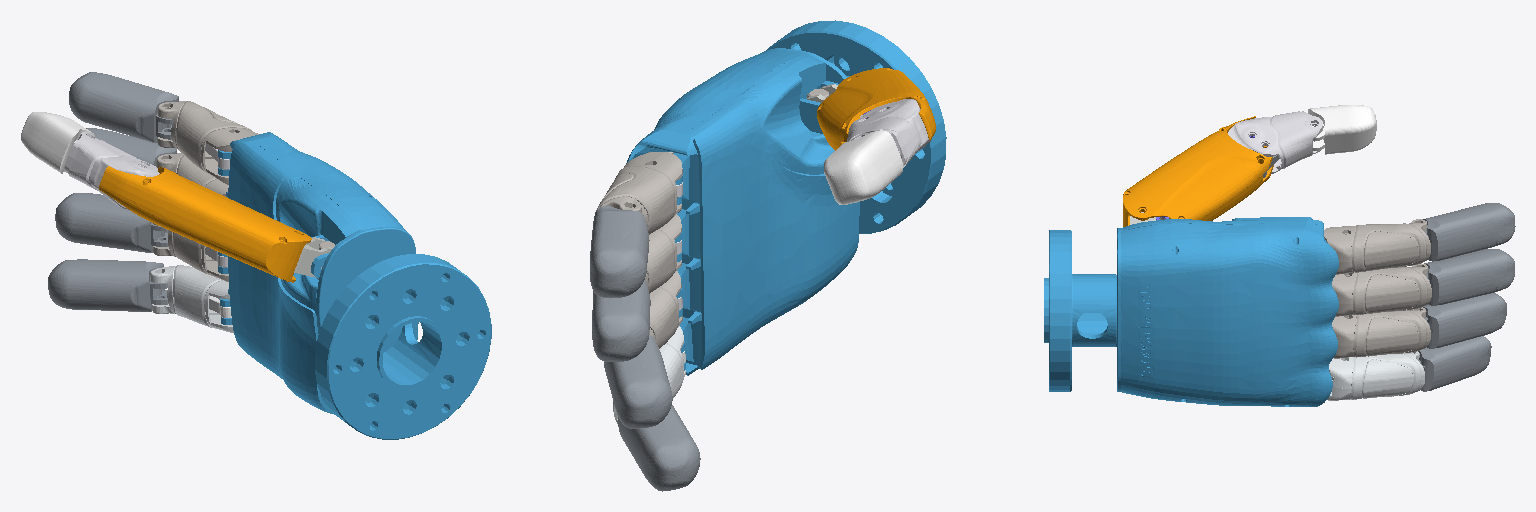
--- What the picture shows (computed from the rendered views, not written in the file) ---
The picture shows the robot from 3 angles, left to right: view 1: azimuth 30°, elevation 25°; view 2: azimuth 150°, elevation 25°; view 3: azimuth 270°, elevation 25°; orthographic projection.
Robot: ur5_inspire_hand — 40 links, 39 joints (30 revolute, 6 prismatic, 3 fixed); root link world; default pose: every joint at zero.
Visible links, largest first — view 1: hand_base_link, Link44, Link84, Link04, Link74, Link03, Link83, Link47, Link48, Link73, Link64, Link63 (+1 smaller); view 2: hand_base_link, Link04, Link44, Link03, Link48, Link74, Link84, Link64, Link47, Link63, Link73, Link83; view 3: hand_base_link, Link44, Link03, Link63, Link73, Link83, Link04, Link64, Link47, Link74, Link48, Link84.
Boxes of the visible links, bbox=[...] form: hand_base_link: bbox=[218, 132, 491, 439]; Link44: bbox=[99, 166, 311, 282]; Link84: bbox=[48, 259, 168, 311]; Link04: bbox=[69, 72, 178, 142]; Link74: bbox=[55, 193, 168, 252]; Link03: bbox=[157, 101, 258, 184]; Link83: bbox=[150, 265, 233, 332]; Link47: bbox=[65, 132, 159, 209]; Link48: bbox=[21, 112, 94, 173]; Link73: bbox=[153, 223, 228, 281]; Link64: bbox=[86, 128, 176, 165]; Link63: bbox=[156, 153, 228, 197]; hand_base_link: bbox=[626, 20, 946, 375]; Link04: bbox=[590, 206, 649, 297]; Link44: bbox=[817, 68, 935, 150]; Link03: bbox=[595, 152, 682, 234]; Link48: bbox=[824, 130, 902, 204]; Link74: bbox=[604, 335, 672, 428]; Link84: bbox=[618, 405, 700, 491]; Link64: bbox=[592, 280, 650, 361]; Link47: bbox=[847, 99, 931, 167]; Link63: bbox=[645, 214, 681, 293]; Link73: bbox=[649, 271, 682, 348]; Link83: bbox=[613, 326, 685, 423]; hand_base_link: bbox=[1044, 217, 1338, 406]; Link44: bbox=[1123, 116, 1273, 226]; Link03: bbox=[1324, 219, 1430, 274]; Link63: bbox=[1332, 263, 1431, 316]; Link73: bbox=[1332, 307, 1430, 358]; Link83: bbox=[1327, 351, 1424, 400]; Link04: bbox=[1423, 203, 1515, 261]; Link64: bbox=[1424, 249, 1514, 305]; Link47: bbox=[1228, 111, 1323, 173]; Link74: bbox=[1423, 293, 1506, 348]; Link48: bbox=[1308, 105, 1376, 154]; Link84: bbox=[1418, 336, 1491, 391].
Size in the robot's own frame: 0.1343 by 0.2264 by 0.1197 metres.
31 mesh visuals loaded from 38 distinct referenced files (31 binary STL); not drawn: 7 (reference not matched to a file when rendering).

robot.urdf — ur5_inspire_hand:
<?xml version="1.0" encoding="utf-8"?>

<robot name="ur5_inspire_hand">

    <!-- define the ur5's position and orientation in the world coordinate system -->
    <link name="world" />

    <!-- UR5 World connection -->
    <joint name="world_joint" type="fixed">
        <parent link="world" />
        <child link="base_link" />
        <!-- TODO: check base_link name of robot -->
        <origin rpy="0.0 0.0 0.0" xyz="0.0 0.0 0.0" />
    </joint>

    <!-- UR5 Hand connections -->
    <joint name="hand_joint" type="fixed">
        <parent link="ee_link" />
        <child link="hand_base_link" />
        <origin rpy="0.0 -1.57079633 0.0" xyz="0.0 0.0 0.0" />
    </joint>

    <!-- UR5 robot -->
    <link name="base_link">
        <visual>
            <geometry>
                <mesh filename="package://ur_description/meshes/ur5/visual/base.dae" />
            </geometry>
            <material name="LightGrey">
                <color rgba="0.7 0.7 0.7 1.0" />
            </material>
        </visual>
        <collision>
            <geometry>
                <mesh filename="package://ur_description/meshes/ur5/collision/base.stl" />
            </geometry>
        </collision>
        <inertial>
            <mass value="4.0" />
            <origin rpy="0 0 0" xyz="0.0 0.0 0.0" />
            <inertia ixx="0.00443333156" ixy="0.0" ixz="0.0" iyy="0.00443333156" iyz="0.0"
                izz="0.0072" />
        </inertial>
    </link>
    <joint name="shoulder_pan_joint" type="revolute">
        <parent link="base_link" />
        <child link="shoulder_link" />
        <origin rpy="0.0 0.0 0.0" xyz="0.0 0.0 0.089159" />
        <axis xyz="0 0 1" />
        <limit effort="150.0" lower="-3.14159265" upper="3.14159265" velocity="3.15" />
        <dynamics damping="0.0" friction="0.0" />
    </joint>
    <link name="shoulder_link">
        <visual>
            <geometry>
                <mesh filename="package://ur_description/meshes/ur5/visual/shoulder.dae" />
            </geometry>
            <material name="LightGrey">
                <color rgba="0.7 0.7 0.7 1.0" />
            </material>
        </visual>
        <collision>
            <geometry>
                <mesh filename="package://ur_description/meshes/ur5/collision/shoulder.stl" />
            </geometry>
        </collision>
        <inertial>
            <mass value="3.7" />
            <origin rpy="0 0 0" xyz="0.0 0.0 0.0" />
            <inertia ixx="0.010267495893" ixy="0.0" ixz="0.0" iyy="0.010267495893" iyz="0.0"
                izz="0.00666" />
        </inertial>
    </link>
    <joint name="shoulder_lift_joint" type="revolute">
        <parent link="shoulder_link" />
        <child link="upper_arm_link" />
        <origin rpy="0.0 1.570796325 0.0" xyz="0.0 0.13585 0.0" />
        <axis xyz="0 1 0" />
        <limit effort="150.0" lower="-3.14159265" upper="3.14159265" velocity="3.15" />
        <dynamics damping="0.0" friction="0.0" />
    </joint>
    <link name="upper_arm_link">
        <visual>
            <geometry>
                <mesh filename="package://ur_description/meshes/ur5/visual/upperarm.dae" />
            </geometry>
            <material name="LightGrey">
                <color rgba="0.7 0.7 0.7 1.0" />
            </material>
        </visual>
        <collision>
            <geometry>
                <mesh filename="package://ur_description/meshes/ur5/collision/upperarm.stl" />
            </geometry>
        </collision>
        <inertial>
            <mass value="8.393" />
            <origin rpy="0 0 0" xyz="0.0 0.0 0.28" />
            <inertia ixx="0.22689067591" ixy="0.0" ixz="0.0" iyy="0.22689067591" iyz="0.0"
                izz="0.0151074" />
        </inertial>
    </link>
    <joint name="elbow_joint" type="revolute">
        <parent link="upper_arm_link" />
        <child link="forearm_link" />
        <origin rpy="0.0 0.0 0.0" xyz="0.0 -0.1197 0.425" />
        <axis xyz="0 1 0" />
        <limit effort="150.0" lower="-3.14159265" upper="3.14159265" velocity="3.15" />
        <dynamics damping="0.0" friction="0.0" />
    </joint>
    <link name="forearm_link">
        <visual>
            <geometry>
                <mesh filename="package://ur_description/meshes/ur5/visual/forearm.dae" />
            </geometry>
            <material name="LightGrey">
                <color rgba="0.7 0.7 0.7 1.0" />
            </material>
        </visual>
        <collision>
            <geometry>
                <mesh filename="package://ur_description/meshes/ur5/collision/forearm.stl" />
            </geometry>
        </collision>
        <inertial>
            <mass value="2.275" />
            <origin rpy="0 0 0" xyz="0.0 0.0 0.25" />
            <inertia ixx="0.049443313556" ixy="0.0" ixz="0.0" iyy="0.049443313556" iyz="0.0"
                izz="0.004095" />
        </inertial>
    </link>
    <joint name="wrist_1_joint" type="revolute">
        <parent link="forearm_link" />
        <child link="wrist_1_link" />
        <origin rpy="0.0 1.570796325 0.0" xyz="0.0 0.0 0.39225" />
        <axis xyz="0 1 0" />
        <limit effort="28.0" lower="-3.14159265" upper="3.14159265" velocity="3.2" />
        <dynamics damping="0.0" friction="0.0" />
    </joint>
    <link name="wrist_1_link">
        <visual>
            <geometry>
                <mesh filename="package://ur_description/meshes/ur5/visual/wrist1.dae" />
            </geometry>
            <material name="LightGrey">
                <color rgba="0.7 0.7 0.7 1.0" />
            </material>
        </visual>
        <collision>
            <geometry>
                <mesh filename="package://ur_description/meshes/ur5/collision/wrist1.stl" />
            </geometry>
        </collision>
        <inertial>
            <mass value="1.219" />
            <origin rpy="0 0 0" xyz="0.0 0.0 0.0" />
            <inertia ixx="0.111172755531" ixy="0.0" ixz="0.0" iyy="0.111172755531" iyz="0.0"
                izz="0.21942" />
        </inertial>
    </link>
    <joint name="wrist_2_joint" type="revolute">
        <parent link="wrist_1_link" />
        <child link="wrist_2_link" />
        <origin rpy="0.0 0.0 0.0" xyz="0.0 0.093 0.0" />
        <axis xyz="0 0 1" />
        <limit effort="28.0" lower="-3.14159265" upper="3.14159265" velocity="3.2" />
        <dynamics damping="0.0" friction="0.0" />
    </joint>
    <link name="wrist_2_link">
        <visual>
            <geometry>
                <mesh filename="package://ur_description/meshes/ur5/visual/wrist2.dae" />
            </geometry>
            <material name="LightGrey">
                <color rgba="0.7 0.7 0.7 1.0" />
            </material>
        </visual>
        <collision>
            <geometry>
                <mesh filename="package://ur_description/meshes/ur5/collision/wrist2.stl" />
            </geometry>
        </collision>
        <inertial>
            <mass value="1.219" />
            <origin rpy="0 0 0" xyz="0.0 0.0 0.0" />
            <inertia ixx="0.111172755531" ixy="0.0" ixz="0.0" iyy="0.111172755531" iyz="0.0"
                izz="0.21942" />
        </inertial>
    </link>
    <joint name="wrist_3_joint" type="revolute">
        <parent link="wrist_2_link" />
        <child link="wrist_3_link" />
        <origin rpy="0.0 0.0 0.0" xyz="0.0 0.0 0.09465" />
        <axis xyz="0 1 0" />
        <limit effort="28.0" lower="-3.14159265" upper="3.14159265" velocity="3.2" />
        <dynamics damping="0.0" friction="0.0" />
    </joint>
    <link name="wrist_3_link">
        <visual>
            <geometry>
                <mesh filename="package://ur_description/meshes/ur5/visual/wrist3.dae" />
            </geometry>
            <material name="LightGrey">
                <color rgba="0.7 0.7 0.7 1.0" />
            </material>
        </visual>
        <collision>
            <geometry>
                <mesh filename="package://ur_description/meshes/ur5/collision/wrist3.stl" />
            </geometry>
        </collision>
        <inertial>
            <mass value="0.1879" />
            <origin rpy="0 0 0" xyz="0.0 0.0 0.0" />
            <inertia ixx="0.0171364731454" ixy="0.0" ixz="0.0" iyy="0.0171364731454" iyz="0.0"
                izz="0.033822" />
        </inertial>
    </link>
    <joint name="ee_fixed_joint" type="fixed">
        <parent link="wrist_3_link" />
        <child link="ee_link" />
        <origin rpy="0.0 0.0 1.570796325" xyz="0.0 0.0823 0.0" />
    </joint>
    <link name="ee_link">
        <collision>
            <geometry>
                <box size="0.01 0.01 0.01" />
            </geometry>
            <origin rpy="0 0 0" xyz="-0.01 0 0" />
        </collision>
    </link>


    <!-- INSPIRE hand -->
    <link
        name="hand_base_link">
        <inertial>
            <origin
                xyz="0.00040789 0.0043672 -0.042773"
                rpy="0 0 0" />
            <mass
                value="0.091809" />
            <inertia
                ixx="5.4116E-05"
                ixy="4.0634E-07"
                ixz="-1.041E-06"
                iyy="0.00010076"
                iyz="-4.6185E-07"
                izz="9.0663E-05" />
        </inertial>
        <visual>
            <origin
                xyz="0 0 0"
                rpy="0 0 0" />
            <geometry>
                <mesh
                    filename="package://inspire_tactile_hand/meshes/base_link.STL" />
            </geometry>
            <material
                name="">
                <color>1 1 1 0.5</color>
            </material>
        </visual>
        <collision>
            <origin
                xyz="0 0 0"
                rpy="0 0 0" />
            <geometry>
                <mesh
                    filename="package://inspire_tactile_hand/meshes/base_link.STL" />
            </geometry>
        </collision>
    </link>
    <link
        name="Link01">
        <inertial>
            <origin
                xyz="-0.0013075 0.00095537 -0.037441"
                rpy="0 0 0" />
            <mass
                value="0.010228" />
            <inertia
                ixx="4.5019E-06"
                ixy="1.389E-09"
                ixz="-1.4756E-07"
                iyy="4.4556E-06"
                iyz="3.959E-08"
                izz="2.8134E-07" />
        </inertial>
        <visual>
            <origin
                xyz="0 0 0"
                rpy="0 0 0" />
            <geometry>
                <mesh
                    filename="package://inspire_tactile_hand/meshes/Link01.STL" />
            </geometry>
            <material
                name="">
                <color
                    rgba="0.89412 0.91373 0.92941 1" />
            </material>
        </visual>
        <collision>
            <origin
                xyz="0 0 0"
                rpy="0 0 0" />
            <geometry>
                <mesh
                    filename="package://inspire_tactile_hand/meshes/Link01.STL" />
            </geometry>
        </collision>
    </link>
    <joint
        name="joint001"
        type="revolute">
        <origin
            xyz="-0.028069 0.0068497 -0.041587"
            rpy="0 0 0" />
        <parent
            link="hand_base_link" />
        <child
            link="Link01" />
        <axis
            xyz="0.99939 0 -0.034899" />
        <limit
            lower="-2"
            upper="2"
            effort="50"
            velocity="1" />
    </joint>
    <link
        name="Link02">
        <inertial>
            <origin
                xyz="-0.00039499 -0.00011147 -0.011311"
                rpy="0 0 0" />
            <mass
                value="0.00096478" />
            <inertia
                ixx="6.7477E-08"
                ixy="-2.0942E-11"
                ixz="-2.1362E-09"
                iyy="6.7215E-08"
                iyz="-5.9961E-10"
                izz="6.3805E-09" />
        </inertial>
        <visual>
            <origin
                xyz="0 0 0"
                rpy="0 0 0" />
            <geometry>
                <mesh
                    filename="package://inspire_tactile_hand/meshes/Link02.STL" />
            </geometry>
            <material
                name="">
                <color
                    rgba="0.8902 0.8902 0.91373 1" />
            </material>
        </visual>
        <collision>
            <origin
                xyz="0 0 0"
                rpy="0 0 0" />
            <geometry>
                <mesh
                    filename="package://inspire_tactile_hand/meshes/Link02.STL" />
            </geometry>
        </collision>
    </link>
    <joint
        name="joint012"
        type="prismatic">
        <origin
            xyz="-0.0024717 -0.00069757 -0.07078"
            rpy="0 0 0" />
        <parent
            link="Link01" />
        <child
            link="Link02" />
        <axis
            xyz="-0.034898 -0.009849 -0.99934" />
        <limit
            lower="-0.001"
            upper="0.0089"
            effort="50"
            velocity="1" />
    </joint>
    <link
        name="Link03">
        <inertial>
            <origin
                xyz="0.0024223 -0.0078624 -0.016577"
                rpy="0 0 0" />
            <mass
                value="0.0090333" />
            <inertia
                ixx="1.768E-06"
                ixy="-7.9691E-09"
                ixz="-3.4656E-08"
                iyy="1.7729E-06"
                iyz="-2.2807E-07"
                izz="7.7843E-07" />
        </inertial>
        <visual>
            <origin
                xyz="0 0 0"
                rpy="0 0 0" />
            <geometry>
                <mesh
                    filename="package://inspire_tactile_hand/meshes/Link03.STL" />
            </geometry>
            <material
                name="">
                <color
                    rgba="0.77647 0.75686 0.73725 1" />
            </material>
        </visual>
        <collision>
            <origin
                xyz="0 0 0"
                rpy="0 0 0" />
            <geometry>
                <mesh
                    filename="package://inspire_tactile_hand/meshes/Link03.STL" />
            </geometry>
        </collision>
    </link>
    <joint
        name="joint023"
        type="revolute">
        <origin
            xyz="-0.0040346 -0.00029252 -0.029576"
            rpy="0 0 0" />
        <parent
            link="Link02" />
        <child
            link="Link03" />
        <axis
            xyz="-0.99939 0 0.034899" />
        <limit
            lower="-2"
            upper="2"
            effort="50"
            velocity="1" />
    </joint>
    <link
        name="Link04">
        <inertial>
            <origin
                xyz="0.0025725 -0.0077235 -0.02232"
                rpy="0 0 0" />
            <mass
                value="0.014494" />
            <inertia
                ixx="2.7886E-06"
                ixy="-2.9364E-08"
                ixz="-5.5659E-08"
                iyy="2.2885E-06"
                iyz="-8.4296E-07"
                izz="1.196E-06" />
        </inertial>
        <visual>
            <origin
                xyz="0 0 0"
                rpy="0 0 0" />
            <geometry>
                <mesh
                    filename="package://inspire_tactile_hand/meshes/Link04.STL" />
            </geometry>
            <material
                name="">
                <color
                    rgba="0.61569 0.64314 0.67451 1" />
            </material>
        </visual>
        <collision>
            <origin
                xyz="0 0 0"
                rpy="0 0 0" />
            <geometry>
                <mesh
                    filename="package://inspire_tactile_hand/meshes/Link04.STL" />
            </geometry>
        </collision>
    </link>
    <joint
        name="joint034"
        type="revolute">
        <origin
            xyz="-0.0016841 -0.017353 -0.038198"
            rpy="0 0 0" />
        <parent
            link="Link03" />
        <child
            link="Link04" />
        <axis
            xyz="0.99939 0 -0.034899" />
        <limit
            lower="-2"
            upper="2"
            effort="50"
            velocity="1" />
    </joint>

    <gazebo>
        <joint
            name="joint003"
            type="revolute">
            <pose relative_to="hand_base_link">-0.0345 -0.00015498 -0.14553 0 -1.5359 0</pose>
            <parent>hand_base_link</parent>
            <child>Link03</child>
            <axis>0 0 1</axis>
            <limit
                lower="-2"
                upper="2"
                effort="50"
                velocity="1" />
        </joint>
    </gazebo>

    <link
        name="Link05">
        <inertial>
            <origin
                xyz="0.0016013 0.0014238 -0.018617"
                rpy="0 0 0" />
            <mass
                value="0.00069948" />
            <inertia
                ixx="1.2081E-07"
                ixy="3.317E-10"
                ixz="-4.1019E-09"
                iyy="1.2037E-07"
                iyz="9.4987E-09"
                izz="3.4934E-09" />
        </inertial>
        <visual>
            <origin
                xyz="0 0 0"
                rpy="0 0 0" />
            <geometry>
                <mesh
                    filename="package://inspire_tactile_hand/meshes/Link05.STL" />
            </geometry>
            <material
                name="">
                <color
                    rgba="0.8902 0.8902 0.91373 1" />
            </material>
        </visual>
        <collision>
            <origin
                xyz="0 0 0"
                rpy="0 0 0" />
            <geometry>
                <mesh
                    filename="package://inspire_tactile_hand/meshes/Link05.STL" />
            </geometry>
        </collision>
    </link>
    <joint
        name="joint005"
        type="revolute">
        <origin
            xyz="-0.033786 -0.0067159 -0.14085"
            rpy="0 0 0" />
        <parent
            link="hand_base_link" />
        <child
            link="Link05" />
        <axis
            xyz="0.99939 0 -0.034899" />
        <limit
            lower="-2"
            upper="2"
            effort="50"
            velocity="1" />
    </joint>

    <gazebo>
        <joint
            name="joint054"
            type="revolute">
            <pose relative_to="Link05">-0.0032193 0.0026583 -0.036313 0 -1.5359 0</pose>
            <parent>Link05</parent>
            <child>Link04</child>
            <axis>0 0 -1</axis>
            <limit
                lower="-2"
                upper="2"
                effort="50"
                velocity="1" />
        </joint>
    </gazebo>


    <link
        name="Link41">
        <inertial>
            <origin
                xyz="-0.02607 -0.00010211 -0.0060545"
                rpy="0 0 0" />
            <mass
                value="0.010429" />
            <inertia
                ixx="7.6968E-07"
                ixy="-6.219E-09"
                ixz="-2.9412E-08"
                iyy="2.3567E-06"
                iyz="-1.1747E-10"
                izz="1.8027E-06" />
        </inertial>
        <visual>
            <origin
                xyz="0 0 0"
                rpy="0 0 0" />
            <geometry>
                <mesh
                    filename="package://inspire_tactile_hand/meshes/Link41.STL" />
            </geometry>
            <material
                name="">
                <color
                    rgba="0.75294 0.75294 0.75294 1" />
            </material>
        </visual>
        <collision>
            <origin
                xyz="0 0 0"
                rpy="0 0 0" />
            <geometry>
                <mesh
                    filename="package://inspire_tactile_hand/meshes/Link41.STL" />
            </geometry>
        </collision>
    </link>
    <joint
        name="joint401"
        type="revolute">
        <origin
            xyz="0.033577 -0.0119 -0.04755"
            rpy="0 0 0" />
        <parent
            link="hand_base_link" />
        <child
            link="Link41" />
        <axis
            xyz="0 0 1" />
        <limit
            lower="-2"
            upper="2"
            effort="50"
            velocity="1" />
    </joint>
    <link
        name="Link42">
        <inertial>
            <origin
                xyz="-0.01074 -4.2071E-05 3.1818E-10"
                rpy="0 0 0" />
            <mass
                value="0.0006939" />
            <inertia
                ixx="6.1418E-09"
                ixy="-5.4783E-11"
                ixz="1.3215E-15"
                iyy="2.0129E-08"
                iyz="1.3405E-17"
                izz="2.0374E-08" />
        </inertial>
        <visual>
            <origin
                xyz="0 0 0"
                rpy="0 0 0" />
            <geometry>
                <mesh
                    filename="package://inspire_tactile_hand/meshes/Link42.STL" />
            </geometry>
            <material
                name="">
                <color
                    rgba="0.77647 0.75686 0.73725 1" />
            </material>
        </visual>
        <collision>
            <origin
                xyz="0 0 0"
                rpy="0 0 0" />
            <geometry>
                <mesh
                    filename="package://inspire_tactile_hand/meshes/Link42.STL" />
            </geometry>
        </collision>
    </link>
    <joint
        name="joint412"
        type="prismatic">
        <origin
            xyz="-0.047038 -0.00018427 0"
            rpy="0 0 0" />
        <parent
            link="Link41" />
        <child
            link="Link42" />
        <axis
            xyz="0.99999 0.0039175 0" />
        <limit
            lower="-0.0027"
            upper="0.006"
            effort="50"
            velocity="1" />
    </joint>
    <link
        name="Link43">
        <inertial>
            <origin
                xyz="-0.00093154 -0.012832 0.0053322"
                rpy="0 0 0" />
            <mass
                value="0.0020853" />
            <inertia
                ixx="1.1253E-07"
                ixy="-6.7093E-09"
                ixz="-1.4985E-09"
                iyy="7.7841E-08"
                iyz="-5.6524E-09"
                izz="8.0107E-08" />
        </inertial>
        <visual>
            <origin
                xyz="0 0 0"
                rpy="0 0 0" />
            <geometry>
                <mesh
                    filename="package://inspire_tactile_hand/meshes/Link43.STL" />
            </geometry>
            <material
                name="">
                <color
                    rgba="0.82745 0.83922 0.82745 1" />
            </material>
        </visual>
        <collision>
            <origin
                xyz="0 0 0"
                rpy="0 0 0" />
            <geometry>
                <mesh
                    filename="package://inspire_tactile_hand/meshes/Link43.STL" />
            </geometry>
        </collision>
    </link>
    <joint
        name="joint423"
        type="revolute">
        <origin
            xyz="-0.01625 -6.3659E-05 -0.0065"
            rpy="0 0 0" />
        <parent
            link="Link42" />
        <child
            link="Link43" />
        <axis
            xyz="0 0 1" />
        <limit
            lower="-2"
            upper="2"
            effort="50"
            velocity="1" />
    </joint>
    <link
        name="Link44">
        <inertial>
            <origin
                xyz="-0.0043015 -0.022596 -0.023668"
                rpy="0 0 0" />
            <mass
                value="0.010572" />
            <inertia
                ixx="6.7103E-06"
                ixy="-8.3093E-07"
                ixz="-8.5679E-07"
                iyy="5.2737E-06"
                iyz="-1.8755E-06"
                izz="3.1575E-06" />
        </inertial>
        <visual>
            <origin
                xyz="0 0 0"
                rpy="0 0 0" />
            <geometry>
                <mesh
                    filename="package://inspire_tactile_hand/meshes/Link44.STL" />
            </geometry>
            <material
                name="">
                <color
                    rgba="1 0.66667 0.090196 1" />
            </material>
        </visual>
        <collision>
            <origin
                xyz="0 0 0"
                rpy="0 0 0" />
            <geometry>
                <mesh
                    filename="package://inspire_tactile_hand/meshes/Link44.STL" />
            </geometry>
        </collision>
    </link>
    <joint
        name="joint434"
        type="revolute">
        <origin
            xyz="-0.0078317 -0.015666 0.0069"
            rpy="0 0 0" />
        <parent
            link="Link43" />
        <child
            link="Link44" />
        <axis
            xyz="-0.90914 0.4165 0" />
        <limit
            lower="-2"
            upper="2"
            effort="50"
            velocity="1" />
    </joint>
    <link
        name="Link45">
        <inertial>
            <origin
                xyz="-0.0052468 -0.011453 -0.023466"
                rpy="0 0 0" />
            <mass
                value="0.010821" />
            <inertia
                ixx="2.2232E-06"
                ixy="-3.6867E-07"
                ixz="-2.11E-07"
                iyy="1.5873E-06"
                iyz="-4.6058E-07"
                izz="1.193E-06" />
        </inertial>
        <visual>
            <origin
                xyz="0 0 0"
                rpy="0 0 0" />
            <geometry>
                <mesh
                    filename="package://inspire_tactile_hand/meshes/Link45.STL" />
            </geometry>
            <material
                name="">
                <color
                    rgba="1 1 1 1" />
            </material>
        </visual>
        <collision>
            <origin
                xyz="0 0 0"
                rpy="0 0 0" />
            <geometry>
                <mesh
                    filename="package://inspire_tactile_hand/meshes/Link45.STL" />
            </geometry>
        </collision>
    </link>
    <joint
        name="joint445"
        type="revolute">
        <origin
            xyz="0.00088606 -0.011271 -0.00010738"
            rpy="0 0 0" />
        <parent
            link="Link44" />
        <child
            link="Link45" />
        <axis
            xyz="0.90914 -0.4165 0" />
        <limit
            lower="-2"
            upper="2"
            effort="50"
            velocity="1" />
    </joint>
    <link
        name="Link46">
        <inertial>
            <origin
                xyz="-0.0015687 -0.0034242 -0.0043416"
                rpy="0 0 0" />
            <mass
                value="0.00054209" />
            <inertia
                ixx="8.7659E-09"
                ixy="-8.607E-10"
                ixz="-1.0691E-09"
                iyy="7.2814E-09"
                iyz="-2.3337E-09"
                izz="6.155E-09" />
        </inertial>
        <visual>
            <origin
                xyz="0 0 0"
                rpy="0 0 0" />
            <geometry>
                <mesh
                    filename="package://inspire_tactile_hand/meshes/Link46.STL" />
            </geometry>
            <material
                name="">
                <color
                    rgba="0.77647 0.75686 0.73725 1" />
            </material>
        </visual>
        <collision>
            <origin
                xyz="0 0 0"
                rpy="0 0 0" />
            <geometry>
                <mesh
                    filename="package://inspire_tactile_hand/meshes/Link46.STL" />
            </geometry>
        </collision>
    </link>
    <joint
        name="joint456"
        type="prismatic">
        <origin
            xyz="-0.013096 -0.028586 -0.036244"
            rpy="0 0 0" />
        <parent
            link="Link45" />
        <child
            link="Link46" />
        <axis
            xyz="0.27293 0.59575 0.75537" />
        <limit
            lower="-0.0058"
            upper="0.0042"
            effort="50"
            velocity="1" />
    </joint>
    <link
        name="Link47">
        <inertial>
            <origin
                xyz="0.0033514 -0.00228 -0.016194"
                rpy="0 0 0" />
            <mass
                value="0.0057253" />
            <inertia
                ixx="8.817E-07"
                ixy="-2.5206E-08"
                ixz="-2.7134E-08"
                iyy="8.3807E-07"
                iyz="-5.9117E-08"
                izz="5.0904E-07" />
        </inertial>
        <visual>
            <origin
                xyz="0 0 0"
                rpy="0 0 0" />
            <geometry>
                <mesh
                    filename="package://inspire_tactile_hand/meshes/Link47.STL" />
            </geometry>
            <material
                name="">
                <color
                    rgba="0.8902 0.8902 0.91373 1" />
            </material>
        </visual>
        <collision>
            <origin
                xyz="0 0 0"
                rpy="0 0 0" />
            <geometry>
                <mesh
                    filename="package://inspire_tactile_hand/meshes/Link47.STL" />
            </geometry>
        </collision>
    </link>
    <joint
        name="joint467"
        type="revolute">
        <origin
            xyz="-0.0077305 -0.0072703 -0.011331"
            rpy="0 0 0" />
        <parent
            link="Link46" />
        <child
            link="Link47" />
        <axis
            xyz="-0.90914 0.4165 0" />
        <limit
            lower="-2"
            upper="2"
            effort="50"
            velocity="1" />
    </joint>
    <link
        name="Link48">
        <inertial>
            <origin
                xyz="0.0025446 -0.0064579 -0.013497"
                rpy="0 0 0" />
            <mass
                value="0.0085167" />
            <inertia
                ixx="7.8199E-07"
                ixy="-1.7948E-09"
                ixz="-1.5676E-08"
                iyy="7.7878E-07"
                iyz="-3.332E-08"
                izz="4.227E-07" />
        </inertial>
        <visual>
            <origin
                xyz="0 0 0"
                rpy="0 0 0" />
            <geometry>
                <mesh
                    filename="package://inspire_tactile_hand/meshes/Link48.STL" />
            </geometry>
            <material
                name="">
                <color
                    rgba="1 1 1 1" />
            </material>
        </visual>
        <collision>
            <origin
                xyz="0 0 0"
                rpy="0 0 0" />
            <geometry>
                <mesh
                    filename="package://inspire_tactile_hand/meshes/Link48.STL" />
            </geometry>
        </collision>
    </link>
    <joint
        name="joint478"
        type="revolute">
        <origin
            xyz="-0.0026009 -0.0032704 -0.035056"
            rpy="0 0 0" />
        <parent
            link="Link47" />
        <child
            link="Link48" />
        <axis
            xyz="-0.90914 0.4165 0" />
        <limit
            lower="-2"
            upper="2"
            effort="50"
            velocity="1" />
    </joint>
    <link
        name="Link49">
        <inertial>
            <origin
                xyz="-0.0036703 -0.013894 -0.011545"
                rpy="0 0 0" />
            <mass
                value="0.00041351" />
            <inertia
                ixx="6.5362E-08"
                ixy="-1.646E-08"
                ixz="-1.4617E-08"
                iyy="3.6973E-08"
                iyz="-3.1907E-08"
                izz="4.5125E-08" />
        </inertial>
        <visual>
            <origin
                xyz="0 0 0"
                rpy="0 0 0" />
            <geometry>
                <mesh
                    filename="package://inspire_tactile_hand/meshes/Link49.STL" />
            </geometry>
            <material
                name="">
                <color
                    rgba="0.61569 0.64314 0.67451 1" />
            </material>
        </visual>
        <collision>
            <origin
                xyz="0 0 0"
                rpy="0 0 0" />
            <geometry>
                <mesh
                    filename="package://inspire_tactile_hand/meshes/Link49.STL" />
            </geometry>
        </collision>
    </link>
    <joint
        name="joint449"
        type="revolute">
        <origin
            xyz="-0.010887 -0.031082 -0.056915"
            rpy="0 0 0" />
        <parent
            link="Link44" />
        <child
            link="Link49" />
        <axis
            xyz="0.90914 -0.4165 0" />
        <limit
            lower="-2"
            upper="2"
            effort="50"
            velocity="1" />
    </joint>

    <gazebo>
        <joint
            name="joint498"
            type="revolute">
            <pose relative_to="Link49">-0.013754 -0.0239 -0.022185 0.42959 1.5708 0</pose>
            <parent>Link49</parent>
            <child>Link48</child>
            <axis>0 0 -1</axis>
            <limit
                lower="-2"
                upper="2"
                effort="50"
                velocity="1" />
        </joint>
    </gazebo>

    <gazebo>
        <joint
            name="joint447"
            type="revolute">
            <pose relative_to="Link44">-0.017556 -0.038119 -0.058998 0.42959 1.5708 0</pose>
            <parent>Link44</parent>
            <child>Link47</child>
            <axis>0 0 -1</axis>
            <limit
                lower="-2"
                upper="2"
                effort="50"
                velocity="1" />
        </joint>
    </gazebo>

    <link
        name="Link50">
        <inertial>
            <origin
                xyz="-0.0099913 -0.02301 -0.021601"
                rpy="0 0 0" />
            <mass
                value="0.00041134" />
            <inertia
                ixx="1.4792E-07"
                ixy="-3.562E-08"
                ixz="-3.331E-08"
                iyy="8.6481E-08"
                iyz="-7.2709E-08"
                izz="9.414E-08" />
        </inertial>
        <visual>
            <origin
                xyz="0 0 0"
                rpy="0 0 0" />
            <geometry>
                <mesh
                    filename="package://inspire_tactile_hand/meshes/Link50.STL" />
            </geometry>
            <material
                name="">
                <color
                    rgba="0.52157 0.49804 1 1" />
            </material>
        </visual>
        <collision>
            <origin
                xyz="0 0 0"
                rpy="0 0 0" />
            <geometry>
                <mesh
                    filename="package://inspire_tactile_hand/meshes/Link50.STL" />
            </geometry>
        </collision>
    </link>
    <joint
        name="joint4350"
        type="revolute">
        <origin
            xyz="-0.0076736 -0.01292 -0.0026627"
            rpy="0 0 0" />
        <parent
            link="Link43" />
        <child
            link="Link50" />
        <axis
            xyz="0.90914 -0.4165 0" />
        <limit
            lower="-2"
            upper="2"
            effort="50"
            velocity="1" />
    </joint>

    <gazebo>
        <joint
            name="joint5047"
            type="revolute">
            <pose relative_to="Link50">-0.019983 -0.046019 -0.043201 2.712 -1.5708 0</pose>
            <parent>Link50</parent>
            <child>Link47</child>
            <axis>0 0 -1</axis>
            <limit
                lower="-2"
                upper="2"
                effort="50"
                velocity="1" />
        </joint>
    </gazebo>

    <gazebo>
        <joint
            name="joint0043"
            type="revolute">
            <pose relative_to="hand_base_link">-0.027753 -0.01965 -0.04105 0 0 0</pose>
            <parent>hand_base_link</parent>
            <child>Link43</child>
            <axis>0 0 -1</axis>
            <limit
                lower="-2"
                upper="2"
                effort="50"
                velocity="1" />
        </joint>
    </gazebo>


    <link
        name="Link61">
        <inertial>
            <origin
                xyz="-5.8081E-09 0.00096977 -0.037464"
                rpy="0 0 0" />
            <mass
                value="0.010228" />
            <inertia
                ixx="4.507E-06"
                ixy="6.4862E-12"
                ixz="2.1739E-12"
                iyy="4.4556E-06"
                iyz="4.1221E-08"
                izz="2.7622E-07" />
        </inertial>
        <visual>
            <origin
                xyz="0 0 0"
                rpy="0 0 0" />
            <geometry>
                <mesh
                    filename="package://inspire_tactile_hand/meshes/Link61.STL" />
            </geometry>
            <material
                name="">
                <color
                    rgba="0.89412 0.91373 0.92941 1" />
            </material>
        </visual>
        <collision>
            <origin
                xyz="0 0 0"
                rpy="0 0 0" />
            <geometry>
                <mesh
                    filename="package://inspire_tactile_hand/meshes/Link61.STL" />
            </geometry>
        </collision>
    </link>
    <joint
        name="joint601"
        type="revolute">
        <origin
            xyz="-0.0093101 0.0068497 -0.0419"
            rpy="0 0 0" />
        <parent
            link="hand_base_link" />
        <child
            link="Link61" />
        <axis
            xyz="1 0 0" />
        <limit
            lower="-2"
            upper="2"
            effort="50"
            velocity="1" />
    </joint>
    <link
        name="Link62">
        <inertial>
            <origin
                xyz="8.9543E-11 -0.00010713 -0.011318"
                rpy="0 0 0" />
            <mass
                value="0.00096478" />
            <inertia
                ixx="6.7552E-08"
                ixy="-3.0314E-15"
                ixz="1.5268E-15"
                iyy="6.7216E-08"
                iyz="-5.7659E-10"
                izz="6.3055E-09" />
        </inertial>
        <visual>
            <origin
                xyz="0 0 0"
                rpy="0 0 0" />
            <geometry>
                <mesh
                    filename="package://inspire_tactile_hand/meshes/Link62.STL" />
            </geometry>
            <material
                name="">
                <color
                    rgba="0.8902 0.8902 0.91373 1" />
            </material>
        </visual>
        <collision>
            <origin
                xyz="0 0 0"
                rpy="0 0 0" />
            <geometry>
                <mesh
                    filename="package://inspire_tactile_hand/meshes/Link62.STL" />
            </geometry>
        </collision>
    </link>
    <joint
        name="joint612"
        type="prismatic">
        <origin
            xyz="0 -0.00067089 -0.07088"
            rpy="0 0 0" />
        <parent
            link="Link61" />
        <child
            link="Link62" />
        <axis
            xyz="0 -0.0094647 -0.99996" />
        <limit
            lower="-0.001"
            upper="0.00875"
            effort="50"
            velocity="1" />
    </joint>
    <link
        name="Link63">
        <inertial>
            <origin
                xyz="0.0029993 -0.0080389 -0.016397"
                rpy="0 0 0" />
            <mass
                value="0.0090333" />
            <inertia
                ixx="1.7692E-06"
                ixy="-4.4344E-12"
                ixz="-5.4693E-11"
                iyy="1.7679E-06"
                iyz="-2.3885E-07"
                izz="7.8224E-07" />
        </inertial>
        <visual>
            <origin
                xyz="0 0 0"
                rpy="0 0 0" />
            <geometry>
                <mesh
                    filename="package://inspire_tactile_hand/meshes/Link63.STL" />
            </geometry>
            <material
                name="">
                <color
                    rgba="0.77647 0.75686 0.73725 1" />
            </material>
        </visual>
        <collision>
            <origin
                xyz="0 0 0"
                rpy="0 0 0" />
            <geometry>
                <mesh
                    filename="package://inspire_tactile_hand/meshes/Link63.STL" />
            </geometry>
        </collision>
    </link>
    <joint
        name="joint623"
        type="revolute">
        <origin
            xyz="-0.003 -0.0002811 -0.029699"
            rpy="0 0 0" />
        <parent
            link="Link62" />
        <child
            link="Link63" />
        <axis
            xyz="-1 0 0" />
        <limit
            lower="-2"
            upper="2"
            effort="50"
            velocity="1" />
    </joint>
    <link
        name="Link64">
        <inertial>
            <origin
                xyz="0.0044999 -0.0081547 -0.022062"
                rpy="0 0 0" />
            <mass
                value="0.014494" />
            <inertia
                ixx="2.7905E-06"
                ixy="7.3203E-11"
                ixz="2.4362E-11"
                iyy="2.2552E-06"
                iyz="-8.6414E-07"
                izz="1.2273E-06" />
        </inertial>
        <visual>
            <origin
                xyz="0 0 0"
                rpy="0 0 0" />
            <geometry>
                <mesh
                    filename="package://inspire_tactile_hand/meshes/Link64.STL" />
            </geometry>
            <material
                name="">
                <color
                    rgba="0.61569 0.64314 0.67451 1" />
            </material>
        </visual>
        <collision>
            <origin
                xyz="0 0 0"
                rpy="0 0 0" />
            <geometry>
                <mesh
                    filename="package://inspire_tactile_hand/meshes/Link64.STL" />
            </geometry>
        </collision>
    </link>
    <joint
        name="joint634"
        type="revolute">
        <origin
            xyz="-0.0015 -0.017763 -0.038045"
            rpy="0 0 0" />
        <parent
            link="Link63" />
        <child
            link="Link64" />
        <axis
            xyz="1 0 0" />
        <limit
            lower="-2"
            upper="2"
            effort="50"
            velocity="1" />
    </joint>

    <gazebo>
        <joint
            name="joint603"
            type="revolute">
            <pose relative_to="hand_base_link">-0.01231 -0.00015498 -0.146 0 1.5708 0</pose>
            <parent>hand_base_link</parent>
            <child>Link63</child>
            <axis>0 0 1</axis>
            <limit
                lower="-2"
                upper="2"
                effort="50"
                velocity="1" />
        </joint>
    </gazebo>

    <link
        name="Link65">
        <inertial>
            <origin
                xyz="0.00225 0.0012631 -0.018561"
                rpy="0 0 0" />
            <mass
                value="0.00069948" />
            <inertia
                ixx="1.2096E-07"
                ixy="-9.2445E-19"
                ixz="5.4764E-18"
                iyy="1.2053E-07"
                iyz="8.49E-09"
                izz="3.1944E-09" />
        </inertial>
        <visual>
            <origin
                xyz="0 0 0"
                rpy="0 0 0" />
            <geometry>
                <mesh
                    filename="package://inspire_tactile_hand/meshes/Link65.STL" />
            </geometry>
            <material
                name="">
                <color
                    rgba="0.8902 0.8902 0.91373 1" />
            </material>
        </visual>
        <collision>
            <origin
                xyz="0 0 0"
                rpy="0 0 0" />
            <geometry>
                <mesh
                    filename="package://inspire_tactile_hand/meshes/Link65.STL" />
            </geometry>
        </collision>
    </link>
    <joint
        name="joint605"
        type="revolute">
        <origin
            xyz="-0.01156 -0.0067159 -0.14129"
            rpy="0 0 0" />
        <parent
            link="hand_base_link" />
        <child
            link="Link65" />
        <axis
            xyz="1 0 0" />
        <limit
            lower="-2"
            upper="2"
            effort="50"
            velocity="1" />
    </joint>

    <gazebo>
        <joint
            name="joint654"
            type="revolute">
            <pose relative_to="Link65">0 0.002343 -0.036425 3.1416 -1.5708 0</pose>
            <parent>Link65</parent>
            <child>Link64</child>
            <axis>0 0 -1</axis>
            <limit
                lower="-2"
                upper="2"
                effort="50"
                velocity="1" />
        </joint>
    </gazebo>


    <link
        name="Link71">
        <inertial>
            <origin
                xyz="0.0019618 0.0011225 -0.037408"
                rpy="0 0 0" />
            <mass
                value="0.010228" />
            <inertia
                ixx="4.4954E-06"
                ixy="-3.0443E-09"
                ixz="2.2125E-07"
                iyy="4.4552E-06"
                iyz="5.8174E-08"
                izz="2.8823E-07" />
        </inertial>
        <visual>
            <origin
                xyz="0 0 0"
                rpy="0 0 0" />
            <geometry>
                <mesh
                    filename="package://inspire_tactile_hand/meshes/Link71.STL" />
            </geometry>
            <material
                name="">
                <color
                    rgba="0.89412 0.91373 0.92941 1" />
            </material>
        </visual>
        <collision>
            <origin
                xyz="0 0 0"
                rpy="0 0 0" />
            <geometry>
                <mesh
                    filename="package://inspire_tactile_hand/meshes/Link71.STL" />
            </geometry>
        </collision>
    </link>
    <joint
        name="joint701"
        type="revolute">
        <origin
            xyz="0.0075691 0.0068497 -0.041418"
            rpy="0 0 0" />
        <parent
            link="hand_base_link" />
        <child
            link="Link71" />
        <axis
            xyz="0.99863 0 0.05237" />
        <limit
            lower="-2"
            upper="2"
            effort="50"
            velocity="1" />
    </joint>
    <link
        name="Link72">
        <inertial>
            <origin
                xyz="0.00059274 -6.0994E-05 -0.011303"
                rpy="0 0 0" />
            <mass
                value="0.00096478" />
            <inertia
                ixx="6.7384E-08"
                ixy="1.719E-11"
                ixz="3.2033E-09"
                iyy="6.722E-08"
                iyz="-3.2784E-10"
                izz="6.4698E-09" />
        </inertial>
        <visual>
            <origin
                xyz="0 0 0"
                rpy="0 0 0" />
            <geometry>
                <mesh
                    filename="package://inspire_tactile_hand/meshes/Link72.STL" />
            </geometry>
            <material
                name="">
                <color
                    rgba="0.8902 0.8902 0.91373 1" />
            </material>
        </visual>
        <collision>
            <origin
                xyz="0 0 0"
                rpy="0 0 0" />
            <geometry>
                <mesh
                    filename="package://inspire_tactile_hand/meshes/Link72.STL" />
            </geometry>
        </collision>
    </link>
    <joint
        name="joint712"
        type="prismatic">
        <origin
            xyz="0.0037717 -0.00038812 -0.07192"
            rpy="0 0 0" />
        <parent
            link="Link71" />
        <child
            link="Link72" />
        <axis
            xyz="0.05237 -0.005389 -0.99861" />
        <limit
            lower="-0.0015"
            upper="0.0083"
            effort="50"
            velocity="1" />
    </joint>
    <link
        name="Link73">
        <inertial>
            <origin
                xyz="0.0038023 -0.0094406 -0.015218"
                rpy="0 0 0" />
            <mass
                value="0.0090332" />
            <inertia
                ixx="1.7667E-06"
                ixy="1.6357E-08"
                ixz="4.9311E-08"
                iyy="1.7247E-06"
                iyz="-3.1204E-07"
                izz="8.28E-07" />
        </inertial>
        <visual>
            <origin
                xyz="0 0 0"
                rpy="0 0 0" />
            <geometry>
                <mesh
                    filename="package://inspire_tactile_hand/meshes/Link73.STL" />
            </geometry>
            <material
                name="">
                <color
                    rgba="0.77647 0.75686 0.73725 1" />
            </material>
        </visual>
        <collision>
            <origin
                xyz="0 0 0"
                rpy="0 0 0" />
            <geometry>
                <mesh
                    filename="package://inspire_tactile_hand/meshes/Link73.STL" />
            </geometry>
        </collision>
    </link>
    <joint
        name="joint723"
        type="revolute">
        <origin
            xyz="-0.0014405 -0.00016005 -0.029816"
            rpy="0 0 0" />
        <parent
            link="Link72" />
        <child
            link="Link73" />
        <axis
            xyz="-0.99863 0 -0.05237" />
        <limit
            lower="-2"
            upper="2"
            effort="50"
            velocity="1" />
    </joint>
    <link
        name="Link74">
        <inertial>
            <origin
                xyz="0.0052769 -0.01121 -0.02043"
                rpy="0 0 0" />
            <mass
                value="0.014495" />
            <inertia
                ixx="2.7871E-06"
                ixy="5.1066E-08"
                ixz="6.7946E-08"
                iyy="1.9912E-06"
                iyz="-9.7258E-07"
                izz="1.495E-06" />
        </inertial>
        <visual>
            <origin
                xyz="0 0 0"
                rpy="0 0 0" />
            <geometry>
                <mesh
                    filename="package://inspire_tactile_hand/meshes/Link74.STL" />
            </geometry>
            <material
                name="">
                <color
                    rgba="0.61569 0.64314 0.67451 1" />
            </material>
        </visual>
        <collision>
            <origin
                xyz="0 0 0"
                rpy="0 0 0" />
            <geometry>
                <mesh
                    filename="package://inspire_tactile_hand/meshes/Link74.STL" />
            </geometry>
        </collision>
    </link>
    <joint
        name="joint734"
        type="revolute">
        <origin
            xyz="0.00069906 -0.020824 -0.036228"
            rpy="0 0 0" />
        <parent
            link="Link73" />
        <child
            link="Link74" />
        <axis
            xyz="0.99863 0 0.05237" />
        <limit
            lower="-2"
            upper="2"
            effort="50"
            velocity="1" />
    </joint>

    <gazebo>
        <joint
            name="joint703"
            type="revolute">
            <pose relative_to="hand_base_link">0.010242 -0.00015498 -0.14584 0 1.5184 0</pose>
            <parent>hand_base_link</parent>
            <child>Link73</child>
            <axis>0.05237 0 0.99863</axis>
            <limit
                lower="-2"
                upper="2"
                effort="50"
                velocity="1" />
        </joint>
    </gazebo>

    <link
        name="Link75">
        <inertial>
            <origin
                xyz="0.0032212 7.3093E-05 -0.018461"
                rpy="0 0 0" />
            <mass
                value="0.00069948" />
            <inertia
                ixx="1.2063E-07"
                ixy="-4.8676E-11"
                ixz="6.1904E-09"
                iyy="1.2113E-07"
                iyz="9.2819E-10"
                izz="2.9152E-09" />
        </inertial>
        <visual>
            <origin
                xyz="0 0 0"
                rpy="0 0 0" />
            <geometry>
                <mesh
                    filename="package://inspire_tactile_hand/meshes/Link75.STL" />
            </geometry>
            <material
                name="">
                <color
                    rgba="0.8902 0.8902 0.91373 1" />
            </material>
        </visual>
        <collision>
            <origin
                xyz="0 0 0"
                rpy="0 0 0" />
            <geometry>
                <mesh
                    filename="package://inspire_tactile_hand/meshes/Link75.STL" />
            </geometry>
        </collision>
    </link>
    <joint
        name="joint705"
        type="revolute">
        <origin
            xyz="0.010545 -0.0067159 -0.14112"
            rpy="0 0 0" />
        <parent
            link="hand_base_link" />
        <child
            link="Link75" />
        <axis
            xyz="0.99863 0 0.05237" />
        <limit
            lower="-2"
            upper="2"
            effort="50"
            velocity="1" />
    </joint>

    <gazebo>
        <joint
            name="joint754"
            type="revolute">
            <pose relative_to="Link75">-3.5806E-05 0 -0.036552 -3.1416 -1.5184 3.1416</pose>
            <parent>Link75</parent>
            <child>Link74</child>
            <axis>0 0 -1</axis>
            <limit
                lower="-2"
                upper="2"
                effort="50"
                velocity="1" />
        </joint>
    </gazebo>


    <link
        name="Link81">
        <inertial>
            <origin
                xyz="0.0039155 0.0011531 -0.037253"
                rpy="0 0 0" />
            <mass
                value="0.010228" />
            <inertia
                ixx="4.4608E-06"
                ixy="-6.44E-09"
                ixz="4.3977E-07"
                iyy="4.4551E-06"
                iyz="6.1335E-08"
                izz="3.2294E-07" />
        </inertial>
        <visual>
            <origin
                xyz="0 0 0"
                rpy="0 0 0" />
            <geometry>
                <mesh
                    filename="package://inspire_tactile_hand/meshes/Link81.STL" />
            </geometry>
            <material
                name="">
                <color
                    rgba="0.89412 0.91373 0.92941 1" />
            </material>
        </visual>
        <collision>
            <origin
                xyz="0 0 0"
                rpy="0 0 0" />
            <geometry>
                <mesh
                    filename="package://inspire_tactile_hand/meshes/Link81.STL" />
            </geometry>
        </collision>
    </link>
    <joint
        name="joint801"
        type="revolute">
        <origin
            xyz="0.024584 0.0068497 -0.040053"
            rpy="0 0 0" />
        <parent
            link="hand_base_link" />
        <child
            link="Link81" />
        <axis
            xyz="0.99452 0 0.10453" />
        <limit
            lower="-2"
            upper="2"
            effort="50"
            velocity="1" />
    </joint>
    <link
        name="Link82">
        <inertial>
            <origin
                xyz="0.0011831 -5.1734E-05 -0.011256"
                rpy="0 0 0" />
            <mass
                value="0.00096478" />
            <inertia
                ixx="6.6883E-08"
                ixy="2.9102E-11"
                ixz="6.3674E-09"
                iyy="6.722E-08"
                iyz="-2.7692E-10"
                izz="6.9705E-09" />
        </inertial>
        <visual>
            <origin
                xyz="0 0 0"
                rpy="0 0 0" />
            <geometry>
                <mesh
                    filename="package://inspire_tactile_hand/meshes/Link82.STL" />
            </geometry>
            <material
                name="">
                <color
                    rgba="0.8902 0.8902 0.91373 1" />
            </material>
        </visual>
        <collision>
            <origin
                xyz="0 0 0"
                rpy="0 0 0" />
            <geometry>
                <mesh
                    filename="package://inspire_tactile_hand/meshes/Link82.STL" />
            </geometry>
        </collision>
    </link>
    <joint
        name="joint812"
        type="prismatic">
        <origin
            xyz="0.0075062 -0.00032824 -0.071417"
            rpy="0 0 0" />
        <parent
            link="Link81" />
        <child
            link="Link82" />
        <axis
            xyz="0.10453 -0.0045708 -0.99451" />
        <limit
            lower="-0.002"
            upper="0.0079"
            effort="50"
            velocity="1" />
    </joint>
    <link
        name="Link83">
        <inertial>
            <origin
                xyz="0.0045388 -0.010579 -0.01449"
                rpy="0 0 0" />
            <mass
                value="0.0090332" />
            <inertia
                ixx="1.7596E-06"
                ixy="4.0057E-08"
                ixz="9.1983E-08"
                iyy="1.6662E-06"
                iyz="-3.8124E-07"
                izz="8.936E-07" />
        </inertial>
        <visual>
            <origin
                xyz="0 0 0"
                rpy="0 0 0" />
            <geometry>
                <mesh
                    filename="package://inspire_tactile_hand/meshes/Link83.STL" />
            </geometry>
            <material
                name="">
                <color
                    rgba="0.89804 0.91765 0.92941 1" />
            </material>
        </visual>
        <collision>
            <origin
                xyz="0 0 0"
                rpy="0 0 0" />
            <geometry>
                <mesh
                    filename="package://inspire_tactile_hand/meshes/Link83.STL" />
            </geometry>
        </collision>
    </link>
    <joint
        name="joint823"
        type="revolute">
        <origin
            xyz="0.0001209 -0.00013575 -0.029851"
            rpy="0 0 0" />
        <parent
            link="Link82" />
        <child
            link="Link83" />
        <axis
            xyz="-0.99452 0 -0.10453" />
        <limit
            lower="-2"
            upper="2"
            effort="50"
            velocity="1" />
    </joint>
    <link
        name="Link84">
        <inertial>
            <origin
                xyz="0.0061306 -0.014278 -0.018151"
                rpy="0 0 0" />
            <mass
                value="0.014495" />
            <inertia
                ixx="2.7798E-06"
                ixy="1.0497E-07"
                ixz="1.0281E-07"
                iyy="1.6811E-06"
                iyz="-9.9816E-07"
                izz="1.8124E-06" />
        </inertial>
        <visual>
            <origin
                xyz="0 0 0"
                rpy="0 0 0" />
            <geometry>
                <mesh
                    filename="package://inspire_tactile_hand/meshes/Link84.STL" />
            </geometry>
            <material
                name="">
                <color
                    rgba="0.61569 0.64314 0.67451 1" />
            </material>
        </visual>
        <collision>
            <origin
                xyz="0 0 0"
                rpy="0 0 0" />
            <geometry>
                <mesh
                    filename="package://inspire_tactile_hand/meshes/Link84.STL" />
            </geometry>
        </collision>
    </link>
    <joint
        name="joint834"
        type="revolute">
        <origin
            xyz="0.0024318 -0.023668 -0.034617"
            rpy="0 0 0" />
        <parent
            link="Link83" />
        <child
            link="Link84" />
        <axis
            xyz="0.99452 0 0.10453" />
        <limit
            lower="-2"
            upper="2"
            effort="50"
            velocity="1" />
    </joint>

    <gazebo>
        <joint
            name="joint803"
            type="revolute">
            <pose relative_to="hand_base_link">0.032671 -0.00015498 -0.14378 0 1.4661 0</pose>
            <parent>hand_base_link</parent>
            <child>Link83</child>
            <axis>0 0 -1</axis>
            <limit
                lower="-2"
                upper="2"
                effort="50"
                velocity="1" />
        </joint>
    </gazebo>

    <link
        name="Link85">
        <inertial>
            <origin
                xyz="0.00040789 0.0043672 -0.042773"
                rpy="0 0 0" />
            <mass
                value="0.091809" />
            <inertia
                ixx="5.4116E-05"
                ixy="4.0634E-07"
                ixz="-1.041E-06"
                iyy="0.00010076"
                iyz="-4.6185E-07"
                izz="9.0663E-05" />
        </inertial>
        <visual>
            <origin
                xyz="0 0 0"
                rpy="0 0 0" />
            <geometry>
                <mesh
                    filename="package://inspire_tactile_hand/meshes/Link85.STL" />
            </geometry>
            <material
                name="">
                <color
                    rgba="1 1 1 1" />
            </material>
        </visual>
        <collision>
            <origin
                xyz="0 0 0"
                rpy="0 0 0" />
            <geometry>
                <mesh
                    filename="package://inspire_tactile_hand/meshes/Link85.STL" />
            </geometry>
        </collision>
    </link>
    <joint
        name="joint805"
        type="revolute">
        <origin
            xyz="0.032726 -0.0067159 -0.13905"
            rpy="0 0 0" />
        <parent
            link="hand_base_link" />
        <child
            link="Link85" />
        <axis
            xyz="0.99452 0 0.10453" />
        <limit
            lower="-2"
            upper="2"
            effort="50"
            velocity="1" />
    </joint>

    <gazebo>
        <joint
            name="joint854"
            type="revolute">
            <pose relative_to="Link85">0.0018664 -0.0025804 -0.036413 -3.1416 -1.4661 3.1416</pose>
            <parent>Link85</parent>
            <child>Link84</child>
            <axis>0 0 -1</axis>
            <limit
                lower="-2"
                upper="2"
                effort="50" velocity="1" />
        </joint>
    </gazebo>


    <!-- Arm Actuation -->
    <transmission name="ur5_shoulder_pan_trans">
        <type>transmission_interface/SimpleTransmission</type>
        <joint name="shoulder_pan_joint">
            <hardwareInterface>hardware_interface/EffortJointInterface</hardwareInterface>
        </joint>
        <actuator name="ur5_shoulder_pan_motor">
            <mechanicalReduction>1</mechanicalReduction>
        </actuator>
    </transmission>

    <transmission name="ur5_shoulder_lift_trans">
        <type>transmission_interface/SimpleTransmission</type>
        <joint name="shoulder_lift_joint">
            <hardwareInterface>hardware_interface/EffortJointInterface</hardwareInterface>
        </joint>
        <actuator name="ur5_shoulder_lift_motor">
            <mechanicalReduction>1</mechanicalReduction>
        </actuator>
    </transmission>

    <transmission name="ur5_elbow_trans">
        <type>transmission_interface/SimpleTransmission</type>
        <joint name="elbow_joint">
            <hardwareInterface>hardware_interface/EffortJointInterface</hardwareInterface>
        </joint>
        <actuator name="ur5_elbow_motor">
            <mechanicalReduction>1</mechanicalReduction>
        </actuator>
    </transmission>

    <transmission name="ur5_wrist_1_trans">
        <type>transmission_interface/SimpleTransmission</type>
        <joint name="wrist_1_joint">
            <hardwareInterface>hardware_interface/EffortJointInterface</hardwareInterface>
        </joint>
        <actuator name="ur5_wrist_1_motor">
            <mechanicalReduction>1</mechanicalReduction>
        </actuator>
    </transmission>

    <transmission name="ur5_wrist_2_trans">
        <type>transmission_interface/SimpleTransmission</type>
        <joint name="wrist_2_joint">
            <hardwareInterface>hardware_interface/EffortJointInterface</hardwareInterface>
        </joint>
        <actuator name="ur5_wrist_2_motor">
            <mechanicalReduction>1</mechanicalReduction>
        </actuator>
    </transmission>

    <transmission name="ur5_wrist_3_trans">
        <type>transmission_interface/SimpleTransmission</type>
        <joint name="wrist_3_joint">
            <hardwareInterface>hardware_interface/EffortJointInterface</hardwareInterface>
        </joint>
        <actuator name="ur5_wrist_3_motor">
            <mechanicalReduction>1</mechanicalReduction>
        </actuator>
    </transmission>


    <!-- Hand Actuation -->

    <transmission name="tran1">
        <type>transmission_interface/SimpleTransmission</type>
        <joint name="joint012">
            <hardwareInterface>hardware_interface/EffortJointInterface</hardwareInterface>
        </joint>
        <!-- lower="-0.001"
            upper="0.0089" -->
        <actuator name="motor1">
            <hardwareInterface>hardware_interface/EffortJointInterface</hardwareInterface>
            <mechanicalReduction>1</mechanicalReduction>
        </actuator>
    </transmission>

    <transmission name="tran2">
        <type>transmission_interface/SimpleTransmission</type>
        <joint name="joint612">
            <hardwareInterface>hardware_interface/EffortJointInterface</hardwareInterface>
        </joint>
        <!-- lower="-0.001"
            upper="0.00875" -->
        <actuator name="motor2">
            <hardwareInterface>hardware_interface/EffortJointInterface</hardwareInterface>
            <mechanicalReduction>1</mechanicalReduction>
        </actuator>
    </transmission>

    <transmission name="tran3">
        <type>transmission_interface/SimpleTransmission</type>
        <joint name="joint712">
            <hardwareInterface>hardware_interface/EffortJointInterface</hardwareInterface>
        </joint>
        <!-- lower="-0.0015"
            upper="0.0083" -->
        <actuator name="motor3">
            <hardwareInterface>hardware_interface/EffortJointInterface</hardwareInterface>
            <mechanicalReduction>1</mechanicalReduction>
        </actuator>
    </transmission>

    <transmission name="tran4">
        <type>transmission_interface/SimpleTransmission</type>
        <joint name="joint812">
            <hardwareInterface>hardware_interface/EffortJointInterface</hardwareInterface>
        </joint>
        <!-- lower="-0.002"
            upper="0.0079" -->
        <actuator name="motor4">
            <hardwareInterface>hardware_interface/EffortJointInterface</hardwareInterface>
            <mechanicalReduction>1</mechanicalReduction>
        </actuator>
    </transmission>

    <transmission name="tran5">
        <type>transmission_interface/SimpleTransmission</type>
        <joint name="joint412">
            <hardwareInterface>hardware_interface/EffortJointInterface</hardwareInterface>
        </joint>
        <!-- lower="-0.0027"
            upper="0.006" -->
        <actuator name="motor5">
            <hardwareInterface>hardware_interface/EffortJointInterface</hardwareInterface>
            <mechanicalReduction>1</mechanicalReduction>
        </actuator>
    </transmission>

    <transmission name="tran6">
        <type>transmission_interface/SimpleTransmission</type>
        <joint name="joint456">
            <hardwareInterface>hardware_interface/EffortJointInterface</hardwareInterface>
        </joint>
        <!-- lower="-0.0058"
            upper="0.0042" -->
        <actuator name="motor6">
            <hardwareInterface>hardware_interface/EffortJointInterface</hardwareInterface>
            <mechanicalReduction>1</mechanicalReduction>
        </actuator>
    </transmission>

    <!-- ROS control plugin -->
    <gazebo>
        <plugin name="gazebo_ros_control" filename="libgazebo_ros_control.so">
            <robotNamespace>/ur5_inspire</robotNamespace>
            <controlPeriod>0.001</controlPeriod>
            <robotSimType>gazebo_ros_control/DefaultRobotHWSim</robotSimType>
        </plugin>
    </gazebo>

    <!-- Disable gravity for inspire hand links -->
    <!-- Link 01~05 -->
    <gazebo reference="Link01">
        <gravity>false</gravity>
    </gazebo>
    <gazebo reference="Link02">
        <gravity>false</gravity>
    </gazebo>
    <gazebo reference="Link03">
        <gravity>false</gravity>
    </gazebo>
    <gazebo reference="Link04">
        <gravity>false</gravity>
    </gazebo>
    <gazebo reference="Link05">
        <gravity>false</gravity>
    </gazebo>

    <!-- Link 41~50 -->
    <gazebo reference="Link41">
        <gravity>false</gravity>
    </gazebo>
    <gazebo reference="Link42">
        <gravity>false</gravity>
    </gazebo>
    <gazebo reference="Link43">
        <gravity>false</gravity>
    </gazebo>
    <gazebo reference="Link44">
        <gravity>false</gravity>
    </gazebo>
    <gazebo reference="Link45">
        <gravity>false</gravity>
    </gazebo>
    <gazebo reference="Link46">
        <gravity>false</gravity>
    </gazebo>
    <gazebo reference="Link47">
        <gravity>false</gravity>
    </gazebo>
    <gazebo reference="Link48">
        <gravity>false</gravity>
    </gazebo>
    <gazebo reference="Link49">
        <gravity>false</gravity>
    </gazebo>
    <gazebo reference="Link50">
        <gravity>false</gravity>
    </gazebo>

    <!-- Link 61~65 -->
    <gazebo reference="Link61">
        <gravity>false</gravity>
    </gazebo>
    <gazebo reference="Link62">
        <gravity>false</gravity>
    </gazebo>
    <gazebo reference="Link63">
        <gravity>false</gravity>
    </gazebo>
    <gazebo reference="Link64">
        <gravity>false</gravity>
    </gazebo>
    <gazebo reference="Link65">
        <gravity>false</gravity>
    </gazebo>

    <!-- Link 71~75 -->
    <gazebo reference="Link71">
        <gravity>false</gravity>
    </gazebo>
    <gazebo reference="Link72">
        <gravity>false</gravity>
    </gazebo>
    <gazebo reference="Link73">
        <gravity>false</gravity>
    </gazebo>
    <gazebo reference="Link74">
        <gravity>false</gravity>
    </gazebo>
    <gazebo reference="Link75">
        <gravity>false</gravity>
    </gazebo>

    <!-- Link 81~85 -->
    <gazebo reference="Link81">
        <gravity>false</gravity>
    </gazebo>
    <gazebo reference="Link82">
        <gravity>false</gravity>
    </gazebo>
    <gazebo reference="Link83">
        <gravity>false</gravity>
    </gazebo>
    <gazebo reference="Link84">
        <gravity>false</gravity>
    </gazebo>
    <gazebo reference="Link85">
        <gravity>false</gravity>
    </gazebo>

</robot>
